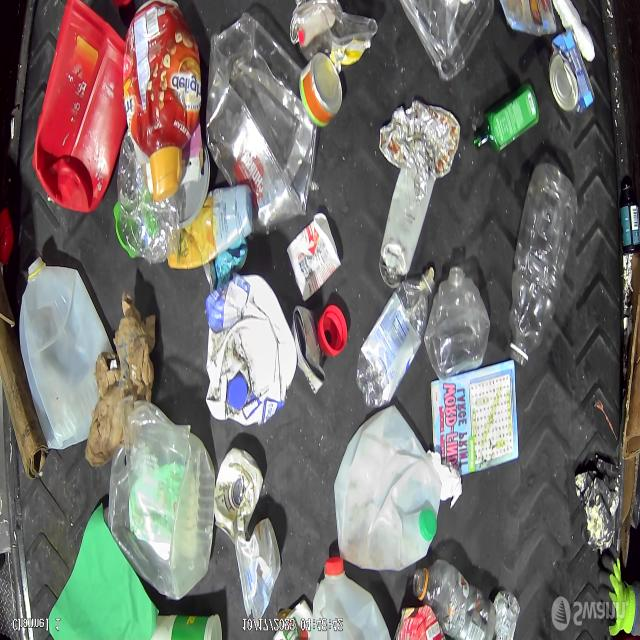can: (213, 446, 264, 544), (548, 32, 596, 117), (300, 52, 344, 127), (290, 305, 326, 394), (494, 584, 521, 640)
milk_jug: (19, 256, 108, 450), (334, 410, 440, 572), (309, 557, 391, 640)
non_white_jug: (32, 3, 128, 215), (124, 0, 202, 201)
plastic_bottle: (506, 158, 578, 368), (356, 266, 440, 413), (424, 263, 491, 377), (416, 562, 492, 638)
